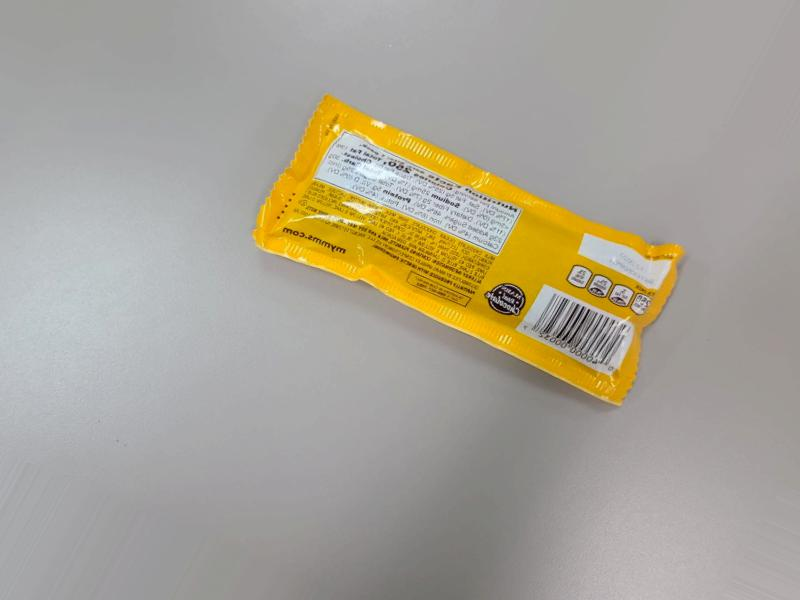m&m: (253, 89, 684, 423)
